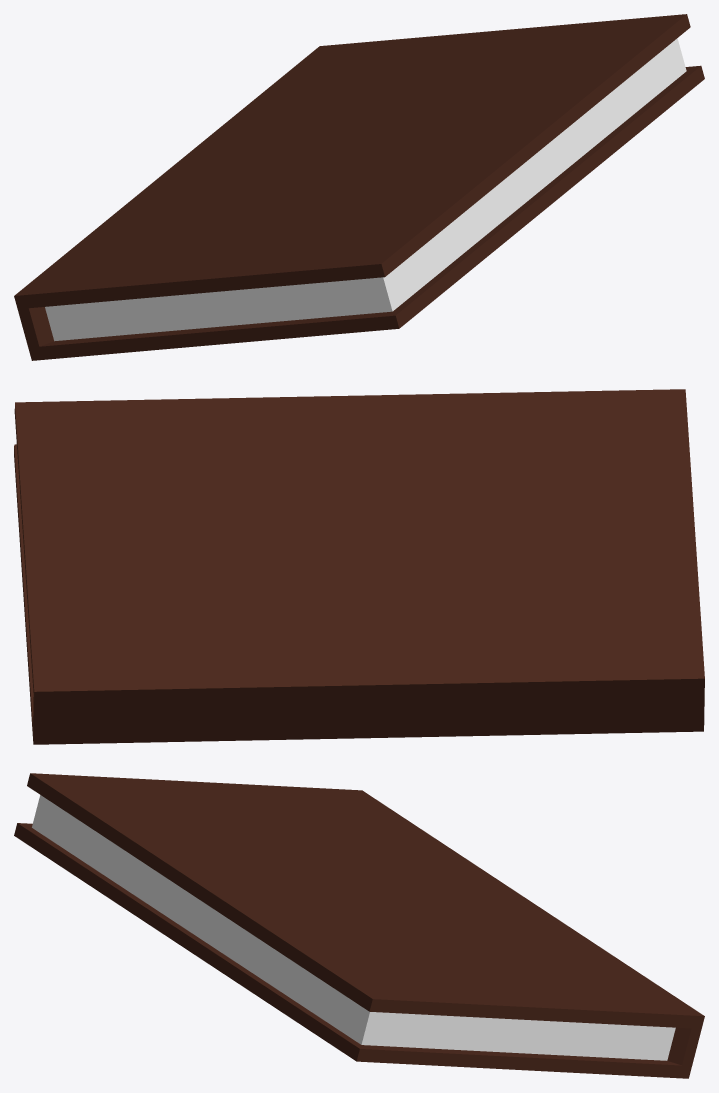
The model's file is boek.fbx.
3 renders of one model, top to bottom at view 1: azimuth 30°, elevation 25°; view 2: azimuth 150°, elevation 25°; view 3: azimuth 270°, elevation 25°, orthographic. The views are drawn at different scales.
Visible parts, largest first — view 1: Book.007; view 2: Book.007; view 3: Book.007.
Boxes of the visible parts, x1=… form: Book.007: x1=14, y1=14, x2=704, y2=360; Book.007: x1=14, y1=389, x2=704, y2=744; Book.007: x1=14, y1=773, x2=704, y2=1078.
Size of the model in its own units: 22.62 by 5.45 by 20.63.
